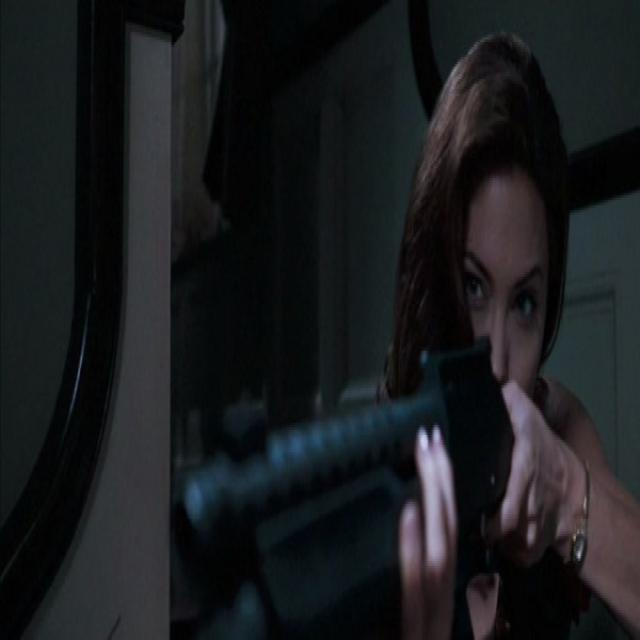rifle: (172, 334, 518, 590)
